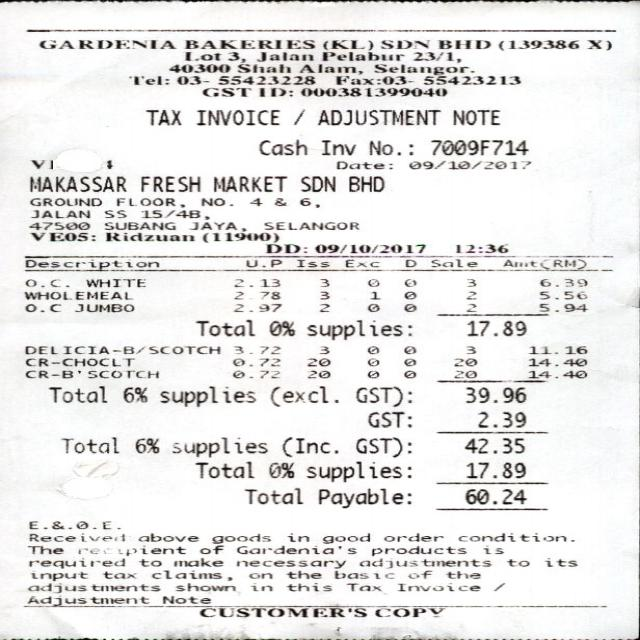text: (306, 459, 409, 482), (306, 318, 410, 339), (316, 108, 438, 125), (169, 436, 266, 457), (159, 385, 253, 406), (317, 487, 409, 508), (22, 345, 218, 354), (23, 256, 163, 268), (197, 607, 365, 617), (301, 86, 445, 97), (27, 175, 126, 191), (429, 138, 527, 154), (356, 557, 489, 568), (26, 582, 159, 593), (269, 385, 337, 406), (302, 242, 424, 253), (25, 595, 147, 606), (195, 109, 278, 125), (22, 289, 131, 301), (38, 39, 174, 48), (371, 63, 473, 75), (182, 39, 314, 48), (211, 175, 285, 191), (456, 532, 573, 542), (354, 385, 409, 406), (354, 436, 409, 457), (370, 544, 464, 556), (280, 436, 336, 456), (500, 256, 586, 269), (407, 160, 529, 169), (76, 545, 184, 555), (235, 545, 354, 554), (26, 557, 123, 568), (194, 318, 253, 336), (463, 436, 522, 454), (194, 460, 252, 478), (464, 386, 525, 403), (464, 461, 524, 478), (59, 436, 118, 453), (242, 487, 301, 504), (463, 488, 525, 504), (215, 74, 314, 84), (23, 357, 133, 366), (47, 385, 105, 402), (235, 559, 344, 568), (464, 320, 525, 336), (421, 74, 518, 84), (27, 532, 123, 542), (140, 175, 198, 191), (148, 569, 230, 580), (496, 39, 576, 50), (262, 221, 357, 230), (320, 50, 402, 60), (27, 520, 118, 529), (476, 410, 524, 427), (256, 138, 306, 154), (451, 108, 498, 125), (104, 232, 192, 241), (334, 74, 412, 84), (202, 232, 278, 242), (298, 62, 361, 74), (115, 196, 183, 207), (397, 582, 479, 591), (373, 608, 446, 618), (367, 410, 409, 427), (29, 196, 100, 206), (140, 209, 208, 219), (102, 221, 173, 230), (143, 108, 180, 125), (172, 581, 234, 591), (527, 368, 588, 378), (368, 140, 411, 154), (136, 532, 196, 542), (382, 532, 442, 542), (332, 569, 392, 579), (347, 175, 382, 192), (299, 175, 334, 192), (29, 208, 88, 218), (210, 533, 269, 543), (29, 232, 94, 241), (453, 242, 506, 253), (254, 51, 312, 61), (85, 370, 157, 378), (320, 39, 372, 50), (188, 221, 244, 231), (29, 570, 85, 580), (167, 63, 229, 72), (410, 51, 460, 62), (24, 368, 79, 378), (27, 221, 88, 230), (320, 138, 354, 154), (84, 278, 144, 287), (73, 303, 132, 312), (436, 38, 489, 48), (527, 345, 585, 354), (527, 357, 585, 366), (321, 532, 368, 543), (334, 160, 390, 169), (378, 38, 428, 48), (172, 556, 222, 566), (538, 301, 587, 311), (236, 63, 289, 72), (232, 290, 278, 300), (200, 87, 250, 96), (286, 581, 330, 591), (537, 290, 585, 299), (267, 320, 293, 336), (120, 386, 146, 402), (430, 258, 476, 267), (232, 278, 278, 287), (232, 345, 278, 354), (267, 462, 292, 478), (160, 595, 209, 603), (128, 74, 167, 84), (538, 278, 586, 286), (232, 303, 280, 311), (25, 278, 67, 287), (134, 437, 157, 453), (266, 242, 299, 253), (183, 50, 219, 60), (231, 356, 267, 366), (444, 569, 479, 579), (286, 569, 320, 579), (345, 581, 379, 591), (23, 303, 59, 312), (25, 545, 61, 554), (174, 74, 206, 84), (198, 196, 230, 206), (242, 259, 281, 267), (343, 258, 377, 267), (258, 87, 291, 96), (101, 570, 134, 579), (295, 258, 327, 267), (231, 370, 267, 378), (586, 39, 610, 50), (544, 558, 576, 566), (405, 569, 430, 579), (304, 368, 328, 378), (284, 532, 308, 542), (198, 544, 222, 554), (102, 208, 125, 218), (304, 357, 328, 366), (451, 357, 475, 366), (227, 50, 244, 62), (298, 197, 318, 207), (451, 370, 475, 378), (136, 558, 160, 566), (505, 558, 528, 566), (400, 288, 416, 299), (400, 302, 417, 312), (481, 546, 502, 554), (291, 109, 302, 124), (246, 572, 270, 578), (364, 276, 377, 287), (248, 196, 261, 206), (318, 276, 331, 286), (366, 302, 380, 311), (401, 345, 415, 354), (401, 357, 415, 366), (249, 585, 270, 591), (402, 278, 415, 287), (401, 370, 415, 378), (366, 356, 377, 366), (404, 258, 415, 267), (464, 290, 475, 299), (366, 345, 377, 354), (273, 197, 285, 205), (368, 290, 378, 299), (319, 290, 329, 299), (464, 303, 475, 311), (366, 370, 377, 378), (492, 582, 503, 590), (466, 278, 475, 287), (465, 345, 474, 353), (319, 345, 327, 354), (319, 303, 327, 311)
